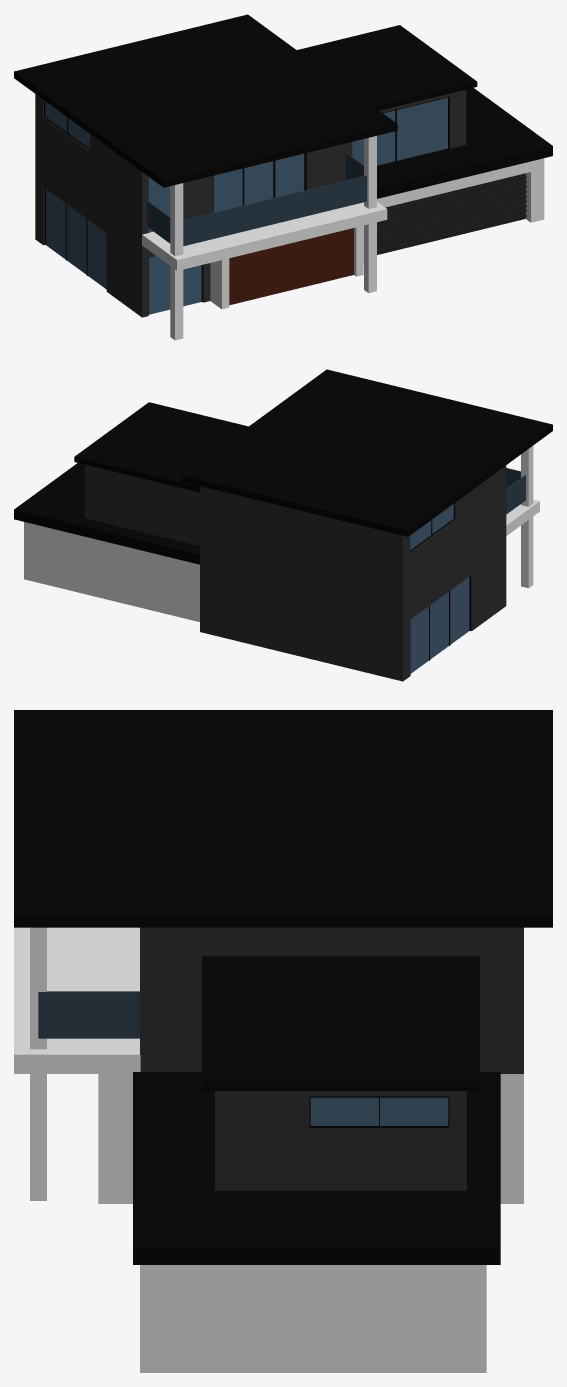
The model's file is Modern2.fbx.
3 renders of one model, top to bottom at view 1: azimuth 30°, elevation 25°; view 2: azimuth 150°, elevation 25°; view 3: azimuth 270°, elevation 25°, orthographic. The views are drawn at different scales.
Parts seen in each view (by area): view 1: Modern2_Roof, Modern2_ConcreteB, Modern2_Windows, Modern2_GarageDoor, Modern2_Glass, Modern2_Wood, Modern2_Balcony, Modern2_ConcreteW, Modern2_Pillars, Modern2_Frame; view 2: Modern2_Roof, Modern2_ConcreteB, Modern2_ConcreteW, Modern2_Windows, Modern2_Pillars, Modern2_Glass, Modern2_Balcony, Modern2_Frame; view 3: Modern2_Roof, Modern2_ConcreteW, Modern2_ConcreteB, Modern2_Balcony, Modern2_Glass, Modern2_Windows, Modern2_Pillars, Modern2_Frame.
Part boxes in pixels (x1=…): Modern2_Roof: x1=14, y1=14, x2=552, y2=198; Modern2_ConcreteB: x1=35, y1=89, x2=466, y2=317; Modern2_Windows: x1=45, y1=97, x2=447, y2=314; Modern2_GarageDoor: x1=377, y1=173, x2=526, y2=254; Modern2_Glass: x1=147, y1=152, x2=366, y2=246; Modern2_Wood: x1=229, y1=228, x2=353, y2=305; Modern2_Balcony: x1=142, y1=202, x2=387, y2=270; Modern2_ConcreteW: x1=210, y1=158, x2=544, y2=309; Modern2_Pillars: x1=170, y1=136, x2=376, y2=340; Modern2_Frame: x1=44, y1=96, x2=449, y2=314; Modern2_Roof: x1=14, y1=369, x2=552, y2=564; Modern2_ConcreteB: x1=84, y1=464, x2=506, y2=681; Modern2_ConcreteW: x1=24, y1=522, x2=199, y2=621; Modern2_Windows: x1=410, y1=504, x2=469, y2=673; Modern2_Pillars: x1=521, y1=446, x2=533, y2=588; Modern2_Glass: x1=506, y1=468, x2=525, y2=514; Modern2_Balcony: x1=506, y1=499, x2=539, y2=535; Modern2_Frame: x1=410, y1=503, x2=470, y2=660; Modern2_Roof: x1=14, y1=710, x2=552, y2=1264; Modern2_ConcreteW: x1=98, y1=1074, x2=523, y2=1372; Modern2_ConcreteB: x1=140, y1=927, x2=523, y2=1190; Modern2_Balcony: x1=14, y1=927, x2=140, y2=1073; Modern2_Glass: x1=38, y1=991, x2=139, y2=1038; Modern2_Windows: x1=310, y1=1097, x2=448, y2=1125; Modern2_Pillars: x1=30, y1=927, x2=46, y2=1200; Modern2_Frame: x1=309, y1=1096, x2=449, y2=1128.
Size of the model in its own units: 1812 by 683 by 1113.
